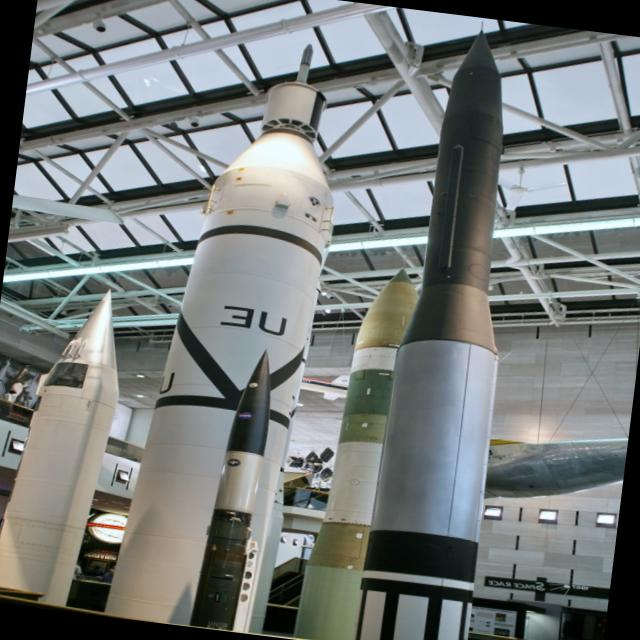rocket: (139, 32, 356, 631), (362, 26, 543, 640), (0, 262, 140, 607)
